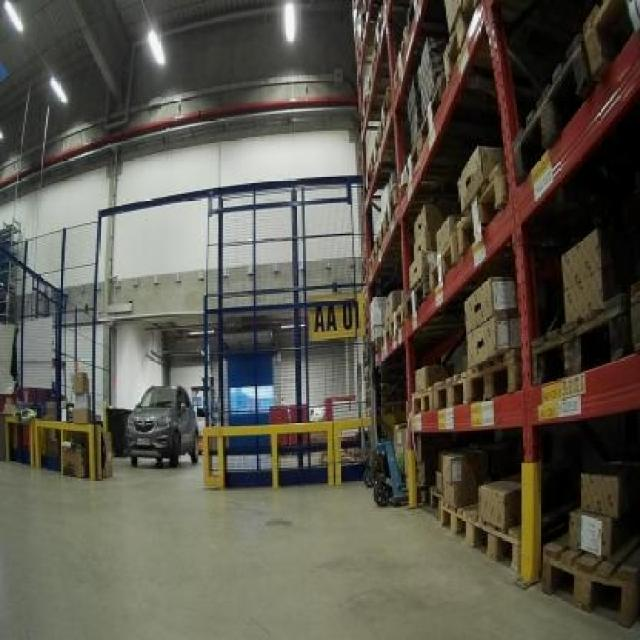floor: (0, 458, 637, 637)
pallets: (352, 0, 637, 622)
